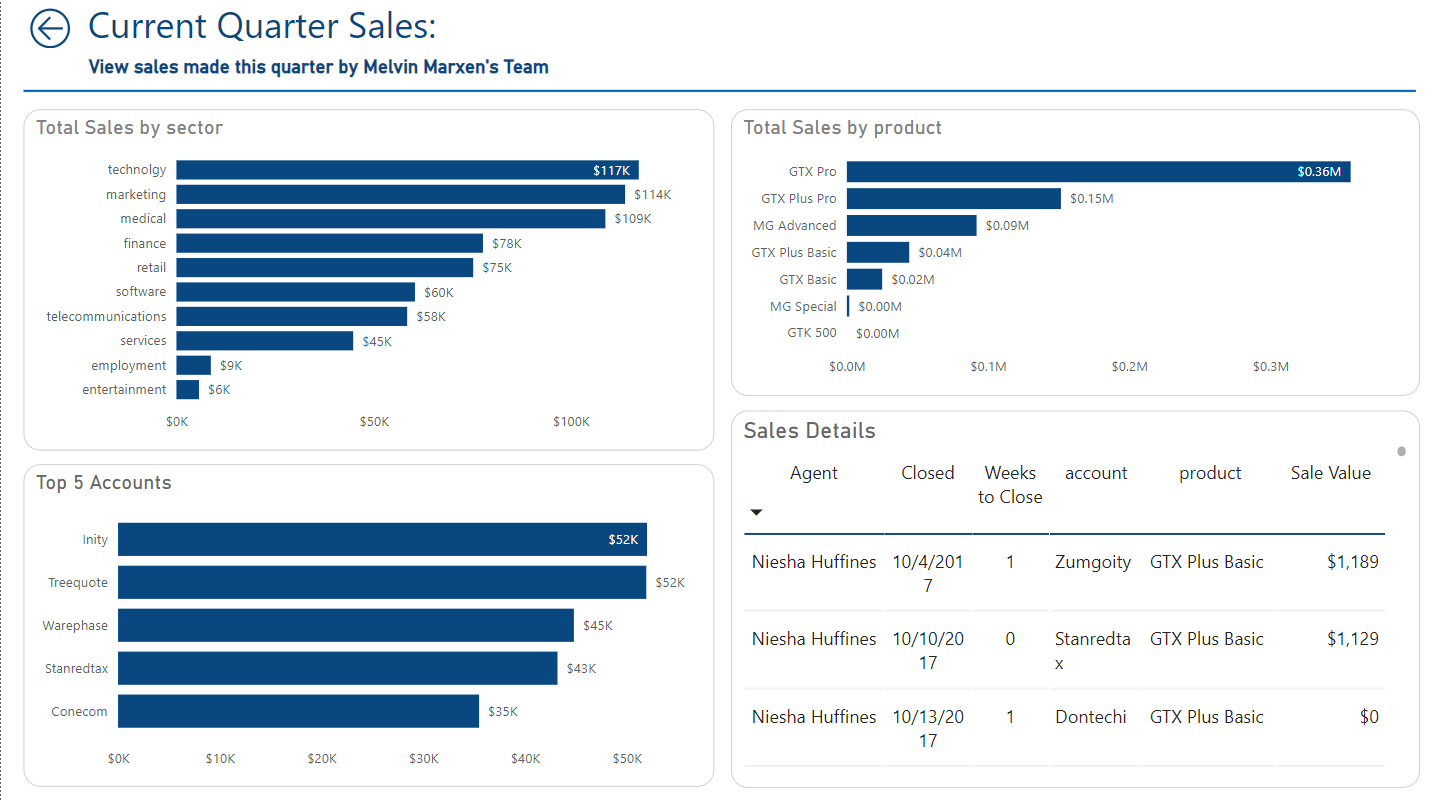

The dashboard page shown, as its layout file describes it:
{"tool":"powerbi","page":{"name":"Total Sales Details","canvas":[1280,720],"ordinal":1},"visuals":[{"type":"clusteredBarChart","fields":{"Y":["DAX Measures.Total Sales"],"Category":["sales_pipeline.sector"]},"box":[20,103.8,615,303.8],"z":1000},{"type":"clusteredBarChart","title":"Top 5 Accounts","fields":{"Category":["sales_pipeline.account"],"Y":["DAX Measures.Total Sales"]},"box":[20,420,615,287.5],"z":2000},{"type":"clusteredBarChart","fields":{"Category":["sales_pipeline.product"],"Y":["DAX Measures.Total Sales"]},"box":[650,103.8,613.8,255],"z":3000},{"type":"tableEx","title":"Sales Details","fields":{"Values":["sales_pipeline.sales_agent","sales_pipeline.close_date","Sum(sales_pipeline.Weeks to Close)","sales_pipeline.account","sales_pipeline.product","Sum(sales_pipeline.close_value)"]},"box":[650,371.2,613.8,336.2],"z":4000},{"type":"actionButton","box":[20,7.5,53.8,47.5],"z":5000},{"type":"textbox","box":[71.9,0.9,387.3,54.3],"z":6000},{"type":"card","title":"manager","fields":{"Values":["DAX Measures.Card Text2"]},"box":[0,48.8,566.3,33.7],"z":9000},{"type":"shape","box":[20,63,1240,47.5],"z":10000}]}

Visuals, with their boxes in screenshot pixels (x1, y1, x2, y2), scaled from the page's 1280x720 canvas onto the 1437x800 screenshot:
clusteredBarChart - DAX Measures.Total Sales x sales_pipeline.sector: (left=22, top=115, right=713, bottom=453)
"Top 5 Accounts" clusteredBarChart: (left=22, top=467, right=713, bottom=786)
clusteredBarChart - sales_pipeline.product x DAX Measures.Total Sales: (left=730, top=115, right=1419, bottom=399)
"Sales Details" tableEx: (left=730, top=412, right=1419, bottom=786)
actionButton: (left=22, top=8, right=83, bottom=61)
textbox: (left=81, top=1, right=516, bottom=61)
"manager" card: (left=0, top=54, right=636, bottom=92)
shape: (left=22, top=70, right=1415, bottom=123)
